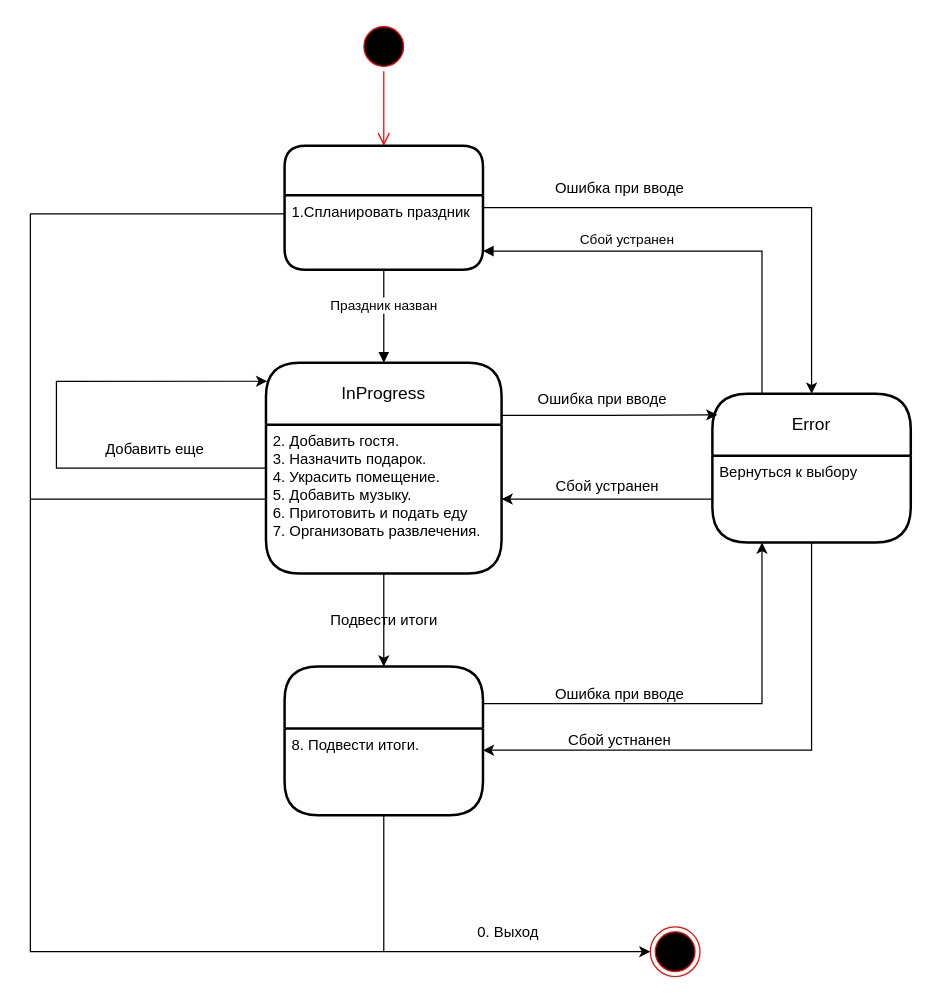
Some shapes in this 934 by 998 pixel diagram are drawn without their labels. Each missing label, with the box of its shape:
Planned: (283, 144, 484, 270)
Summarized: (283, 665, 484, 816)
